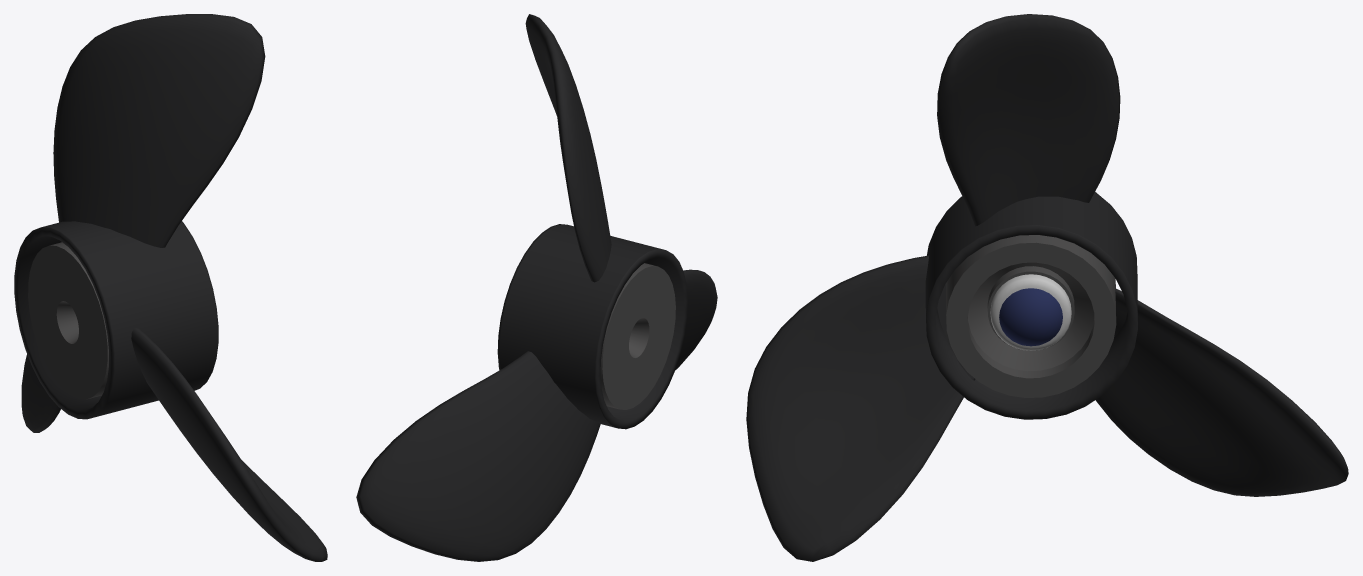
File: 프로펠러.fbx
3 renders of one model, left to right at view 1: azimuth 30°, elevation 25°; view 2: azimuth 150°, elevation 25°; view 3: azimuth 270°, elevation 25°, orthographic. The views are drawn at different scales.
Visible parts, largest first — view 1: 날개, 원통, s; view 2: 날개, 원통, s; view 3: 날개, s, 원통, Sphere, Cylinder.001.
Boxes of the visible parts, x1=… form: 날개: x1=21, y1=14, x2=327, y2=561; 원통: x1=14, y1=221, x2=218, y2=419; s: x1=28, y1=242, x2=108, y2=399; 날개: x1=356, y1=14, x2=717, y2=561; 원통: x1=497, y1=224, x2=687, y2=429; s: x1=600, y1=263, x2=675, y2=409; 날개: x1=746, y1=14, x2=1348, y2=561; s: x1=945, y1=235, x2=1116, y2=397; 원통: x1=925, y1=192, x2=1137, y2=419; Sphere: x1=999, y1=288, x2=1062, y2=346; Cylinder.001: x1=990, y1=274, x2=1071, y2=350.
Bounding box in the file's own units: 208 × 598 × 623.
